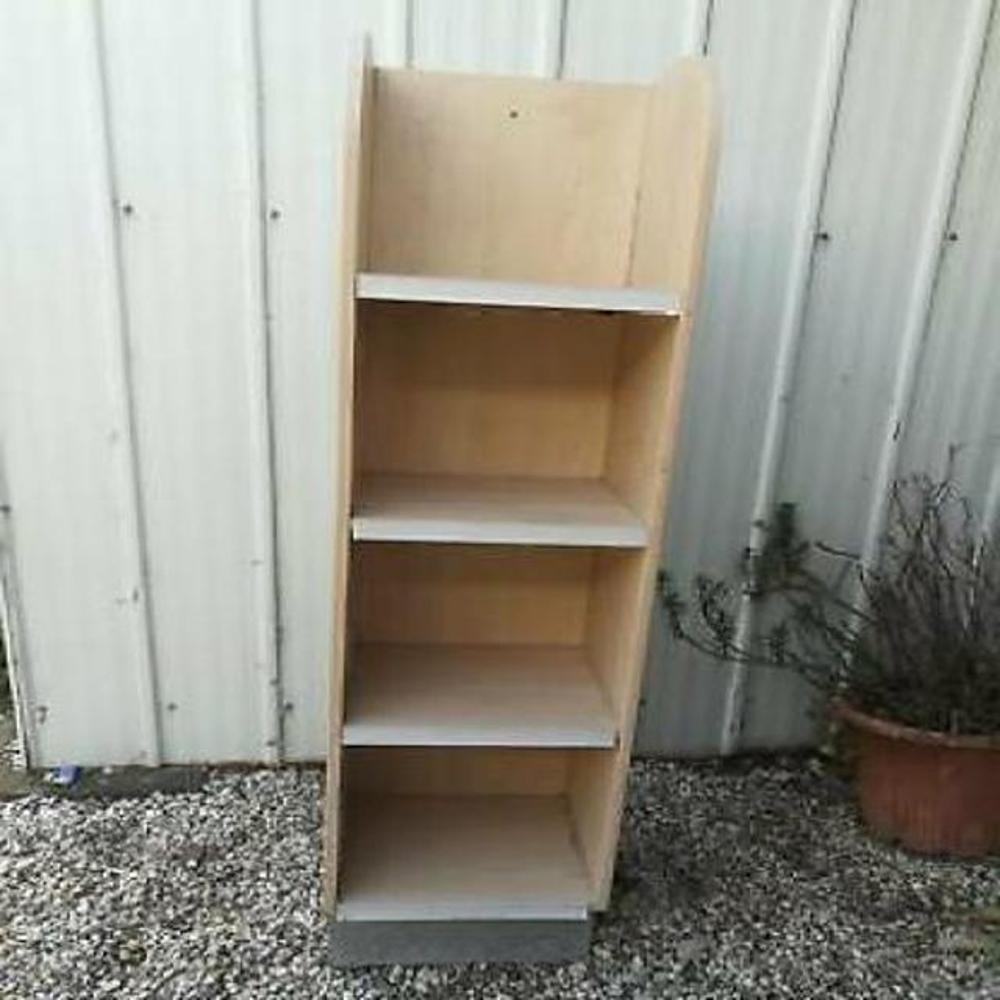lamp: (306, 23, 728, 969)
